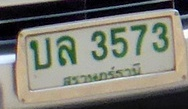txt21: (28, 36, 53, 71)
txt31: (55, 34, 79, 68)
